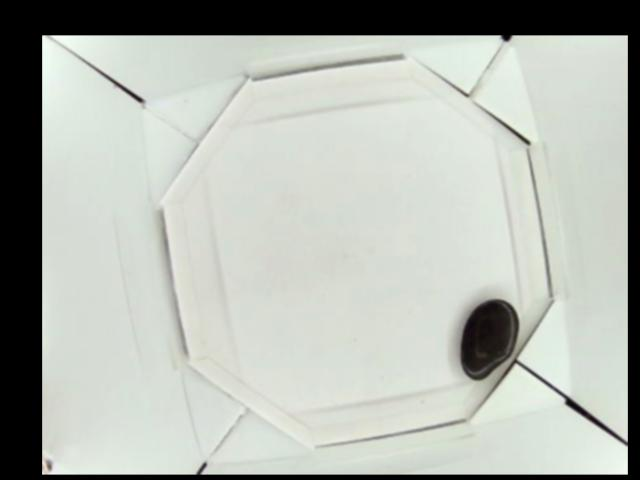Pebble: (458, 300, 520, 380)
